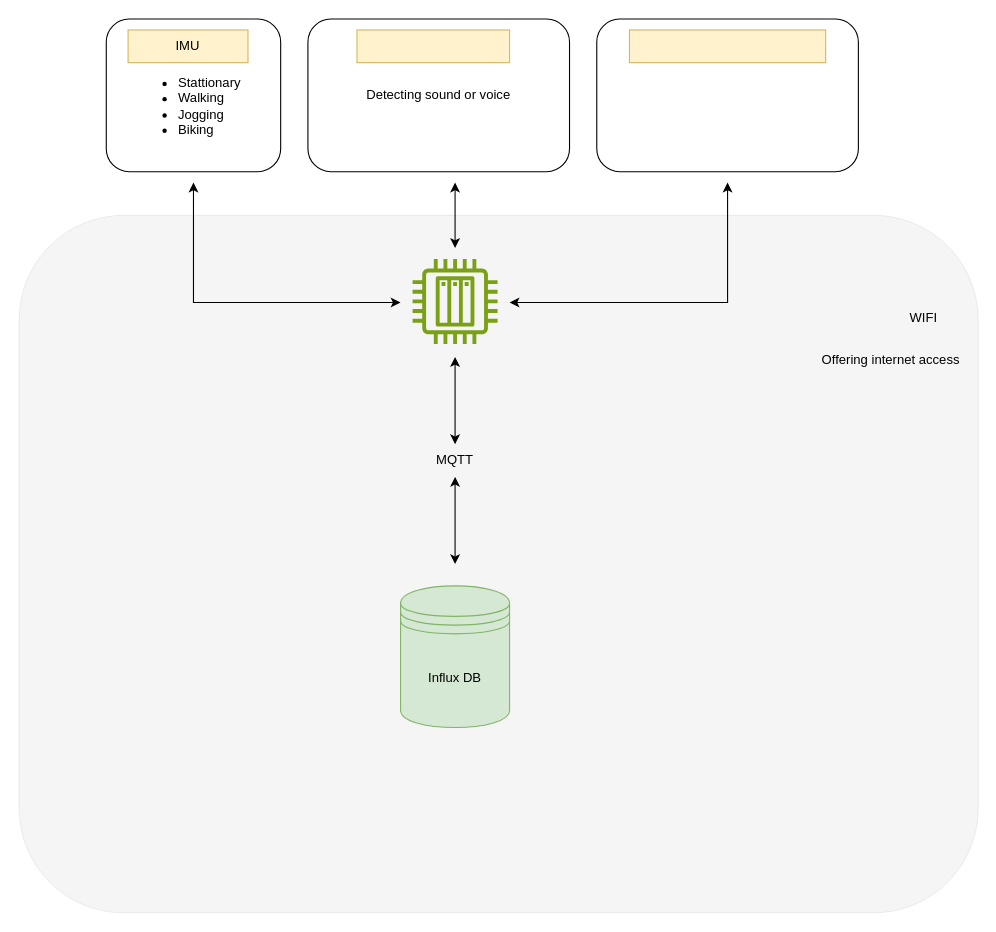
Image size: 996x932. Some labels were removed from this diagram. The centre of each missing label's shape, as x and y in pixels:
"MICROPHONE" belongs at (433,46).
"TEMPERATURE SENSOR" belongs at (727,46).
